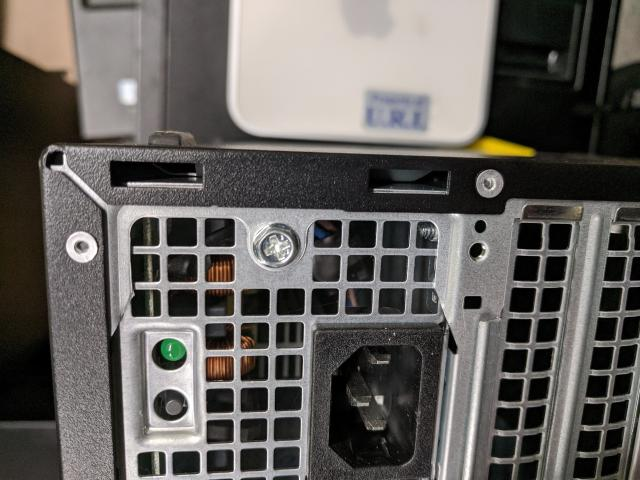CRS: (253, 223, 303, 268)
